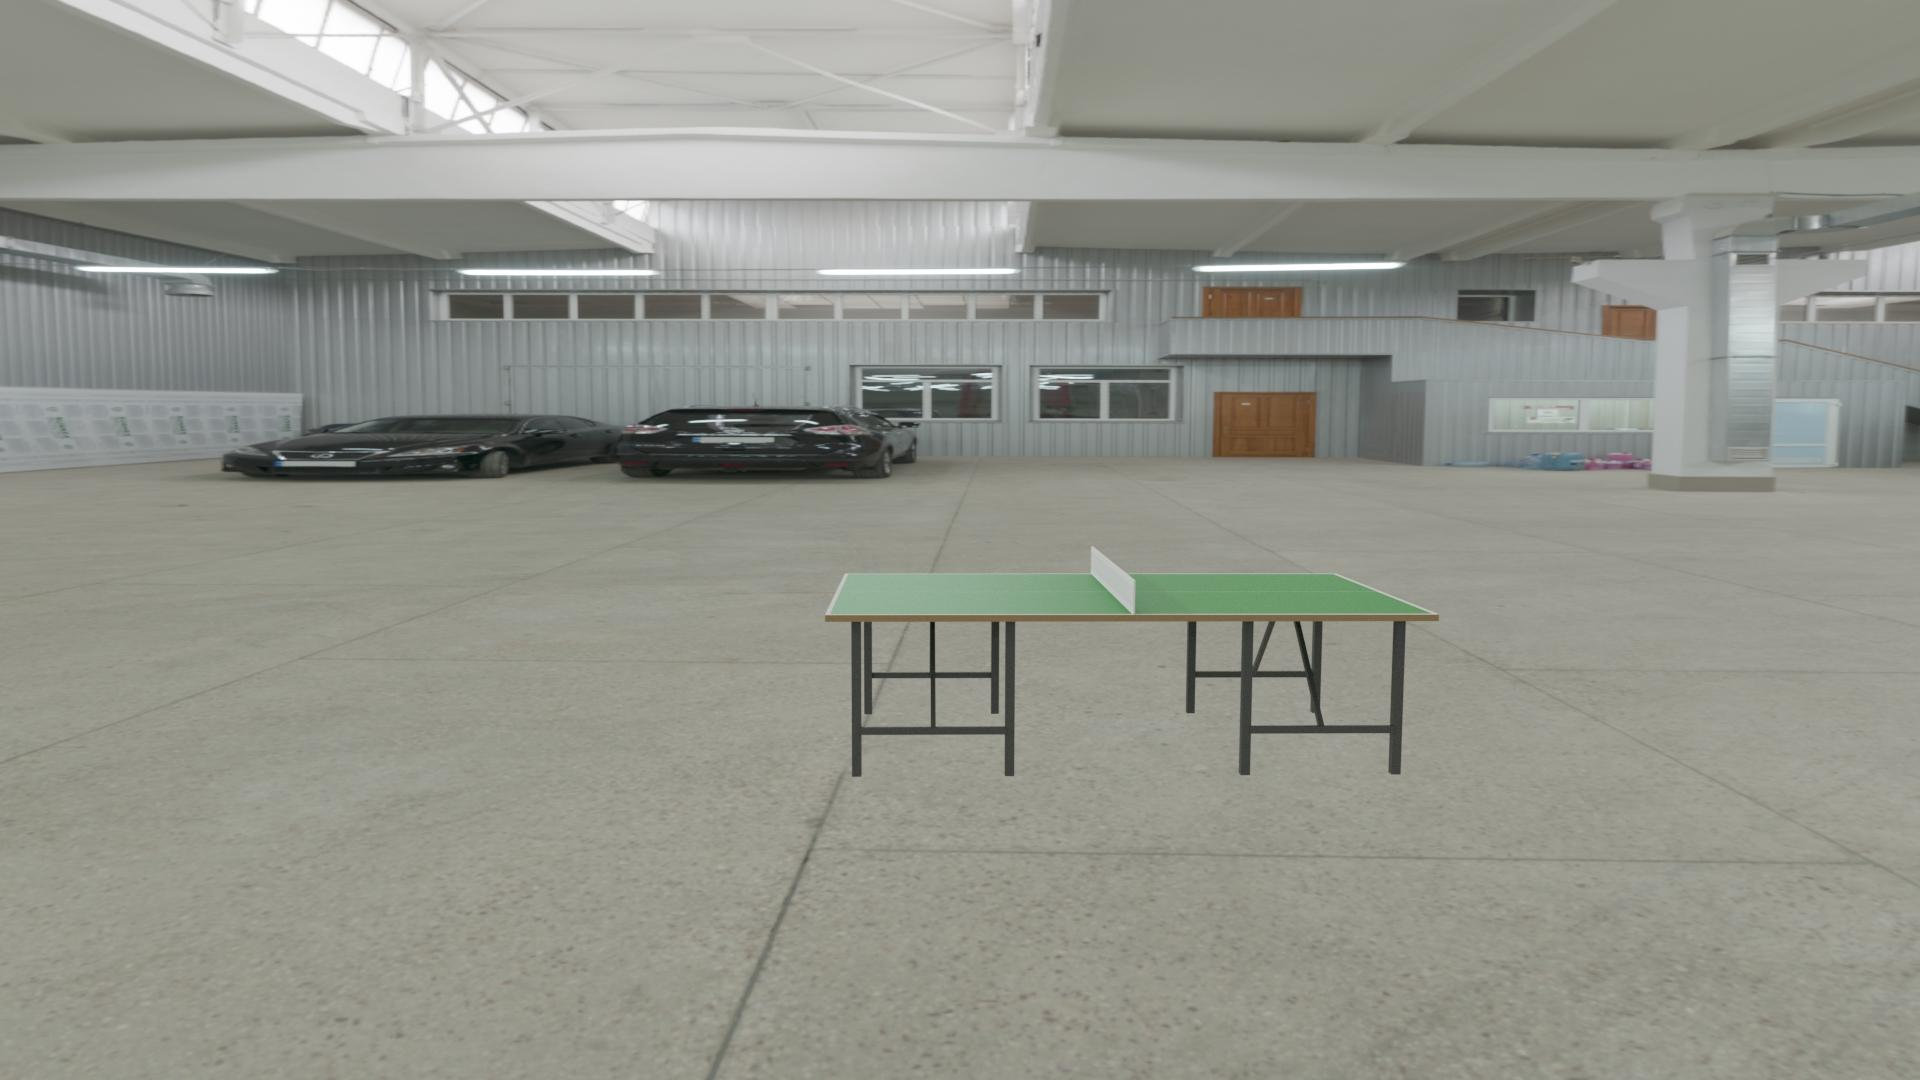table: (829, 574, 1433, 615)
